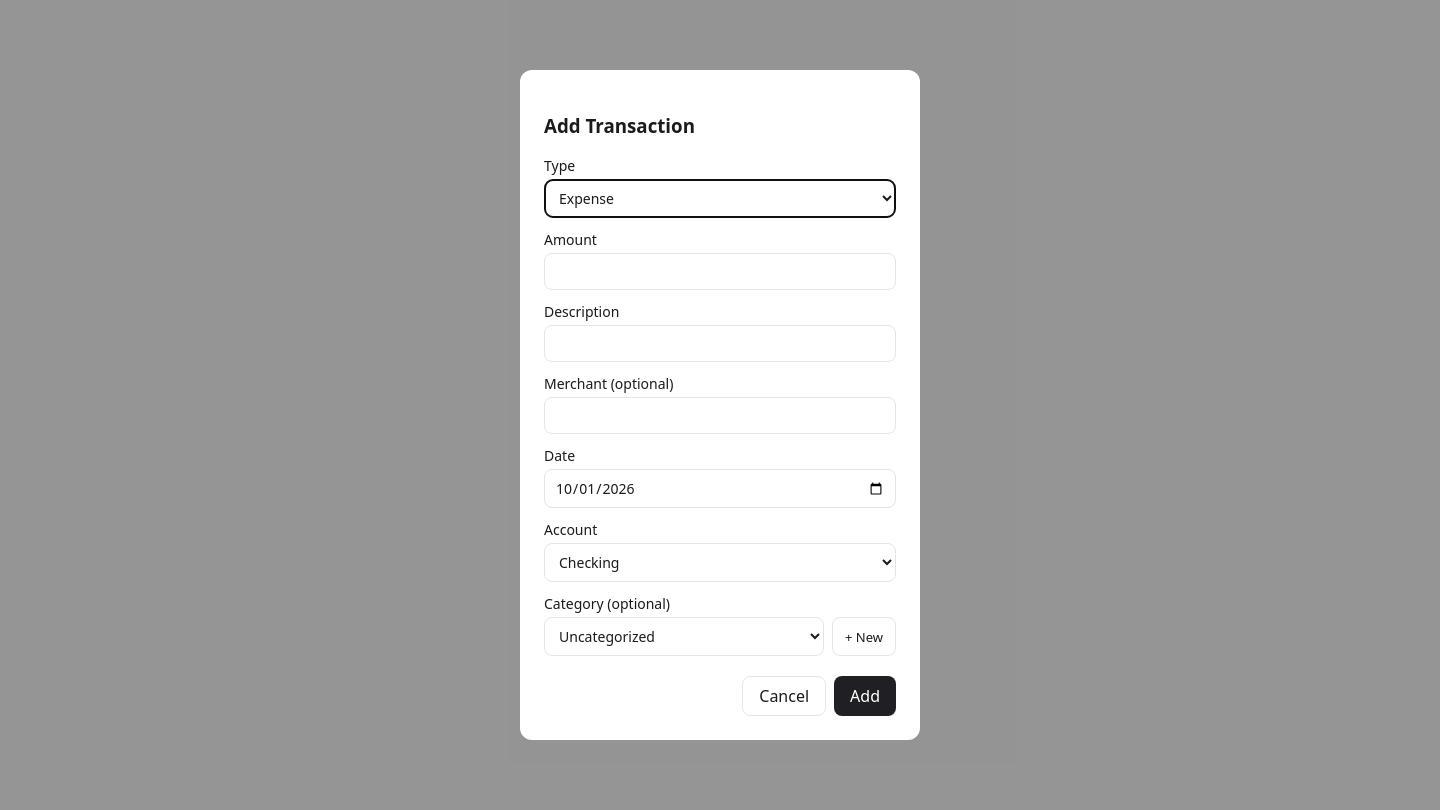
it: TransactionFormModal › shows a validation error when description is empty
In the number field labelled "Amount": (720, 272) top-left (544, 253), bottom-right (896, 290), type "10"
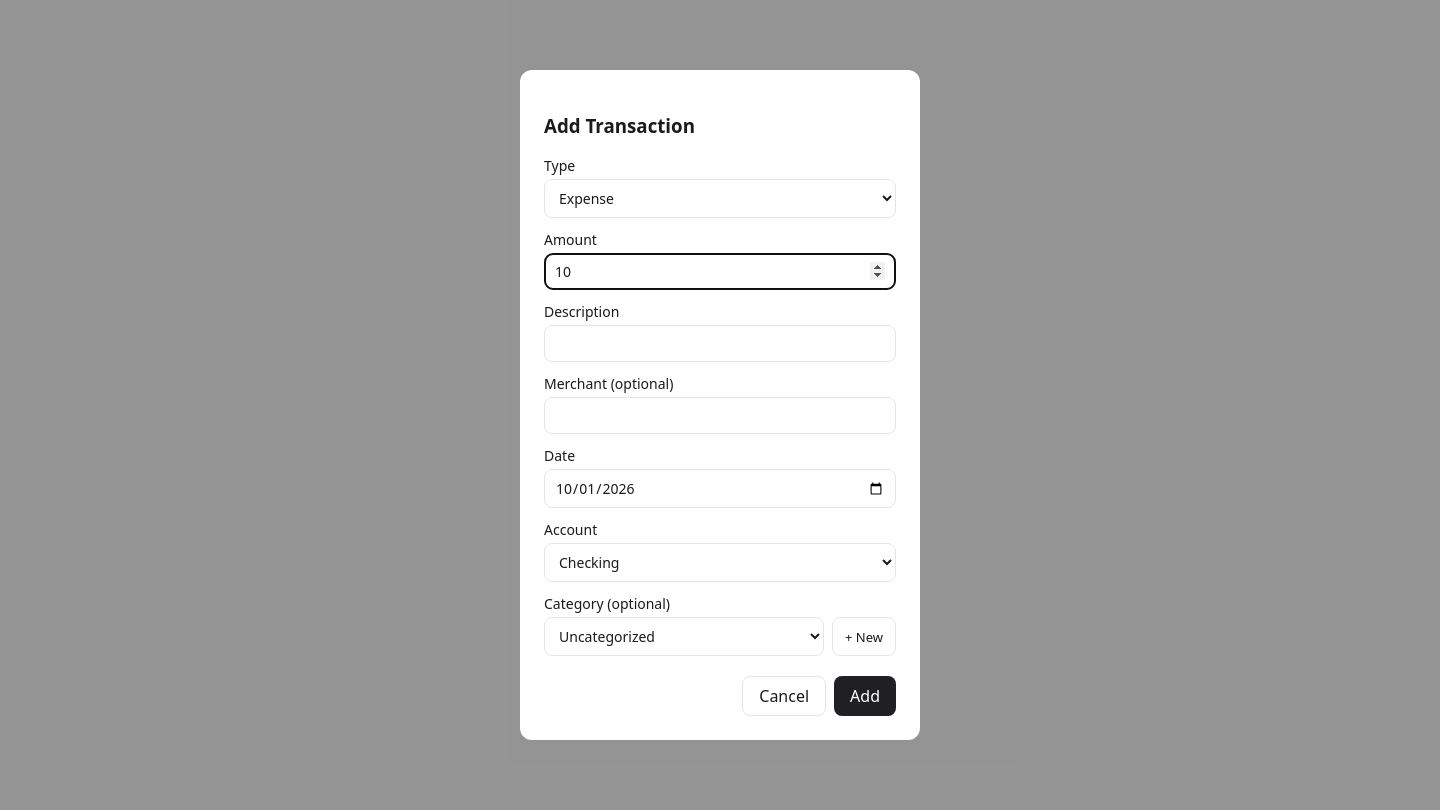
Click the button "Add": (865, 696) top-left (834, 676), bottom-right (896, 716)
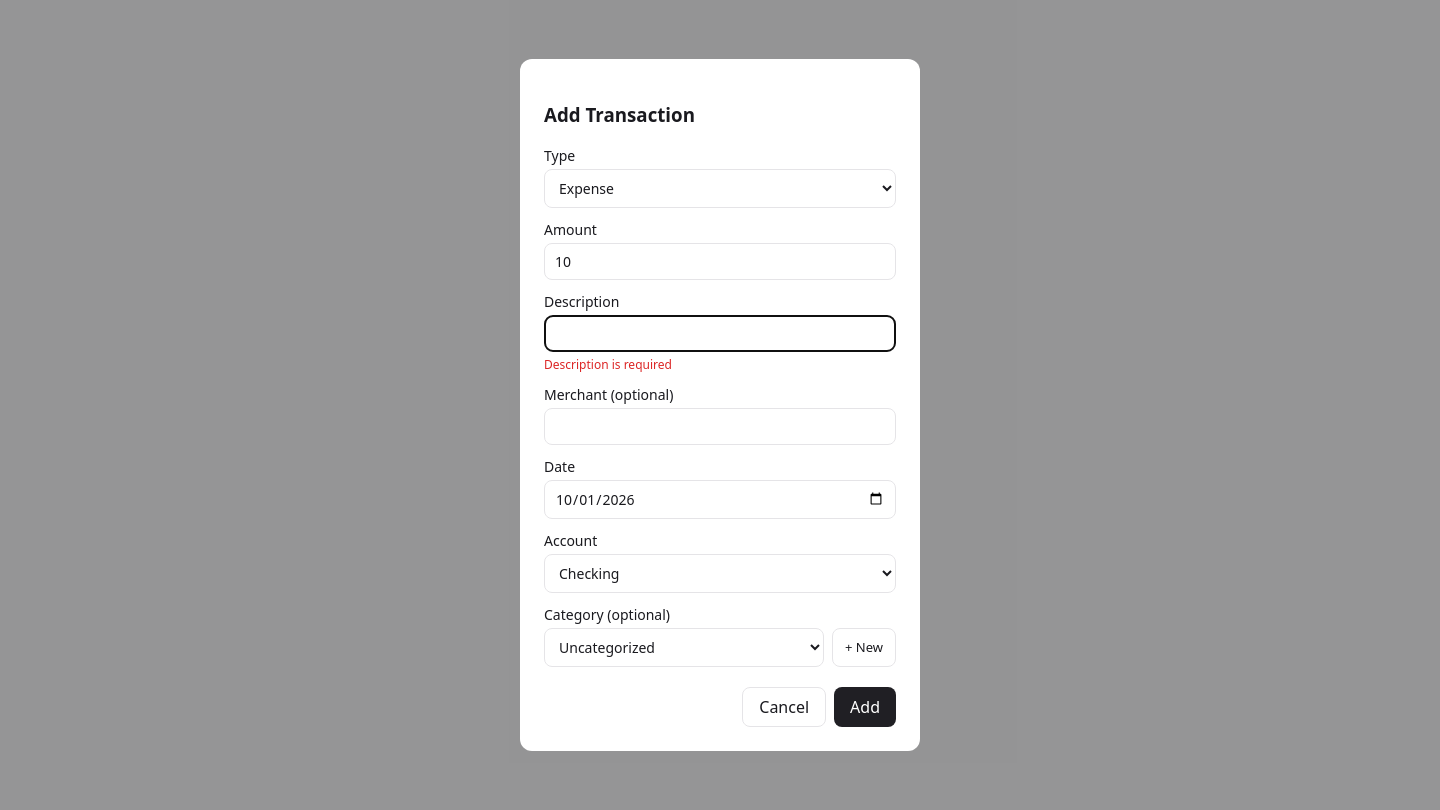
Result: the text "Description is required" is shown at top-left (544, 356), bottom-right (672, 373)
